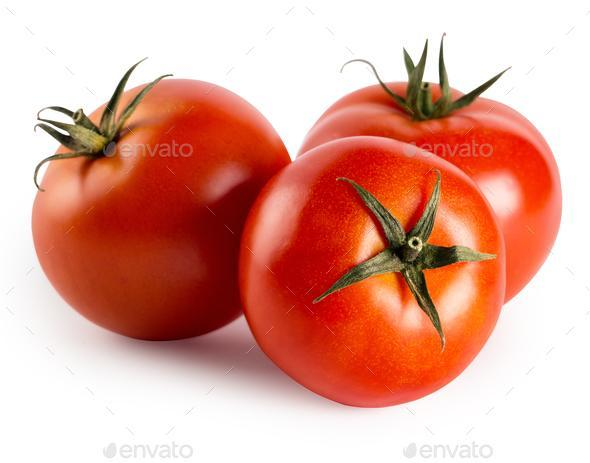healthy-tomato: (245, 138, 554, 410), (31, 76, 294, 344), (292, 65, 563, 303)
